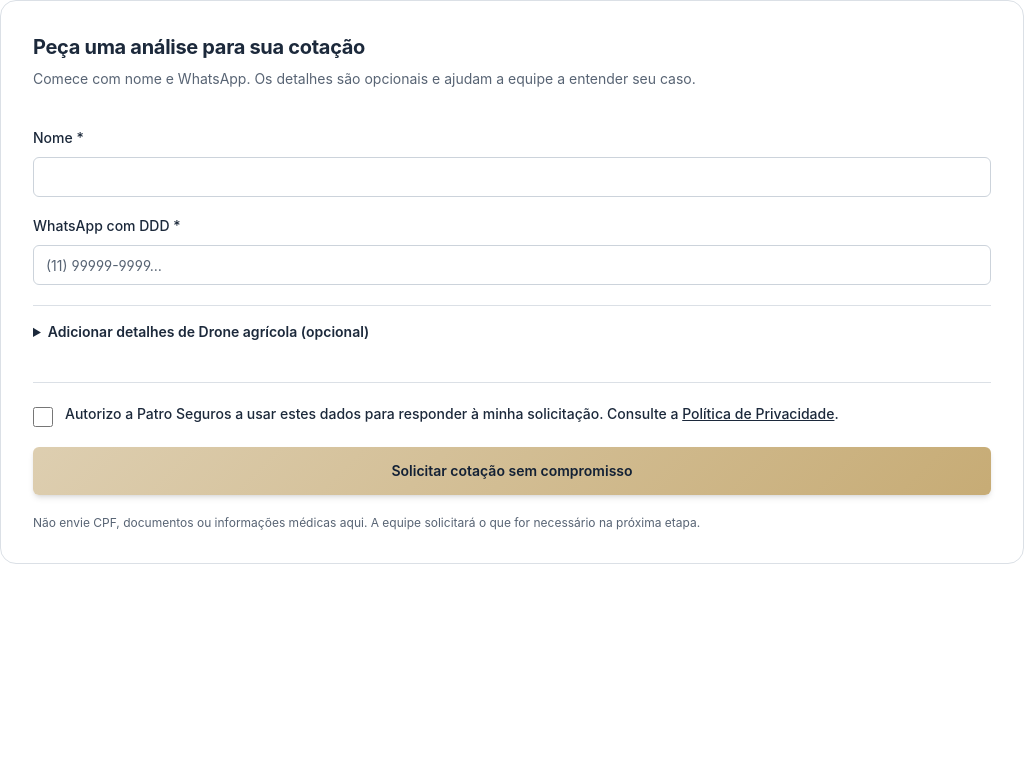
Test: Prévia de drones agrícolas › reduz o contato inicial sem exigir detalhes, documentos ou e-mail
The image size is (1024, 768).
In the field labelled "Nome *": coordinates (512, 177) top-left (33, 157), bottom-right (991, 197), type "Ana Produtora"
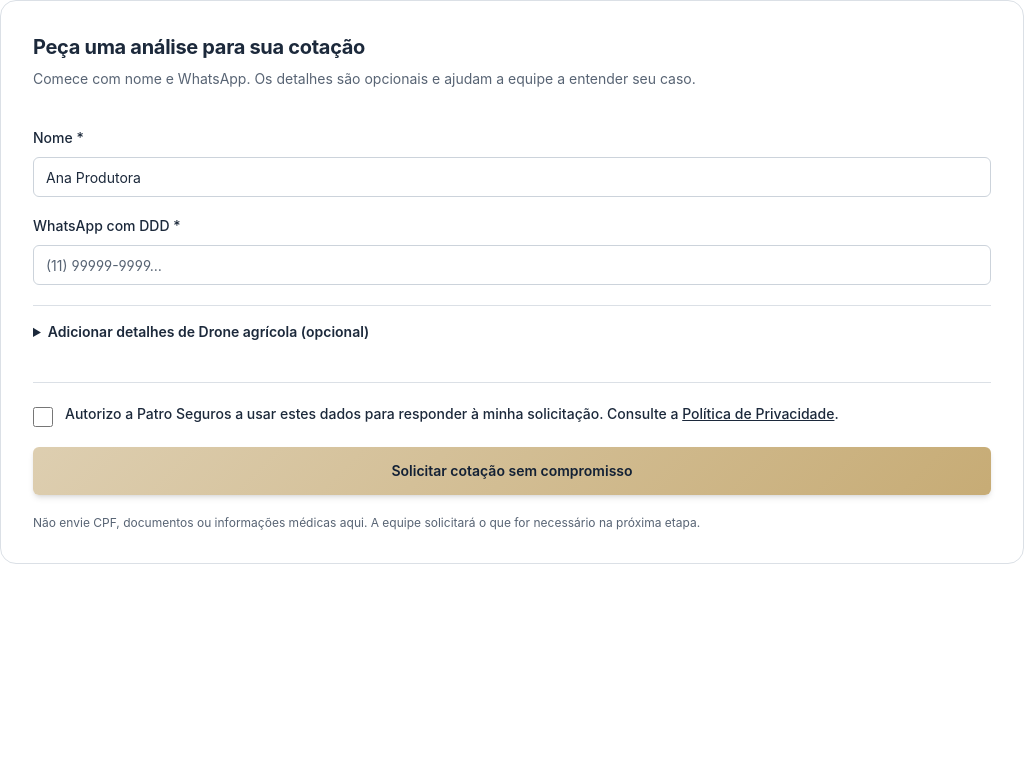
In the field labelled "WhatsApp com DDD *": coordinates (512, 265) top-left (33, 245), bottom-right (991, 285), type "66999999999"
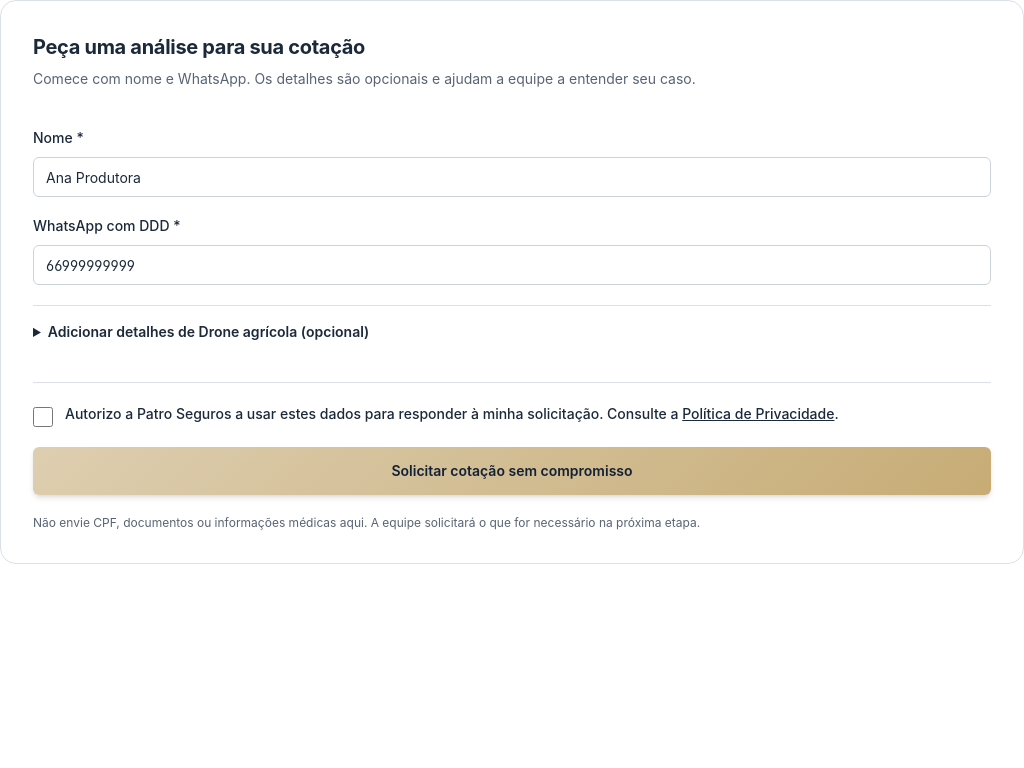
Click the checkbox: coordinates (43, 417) top-left (33, 407), bottom-right (53, 427)
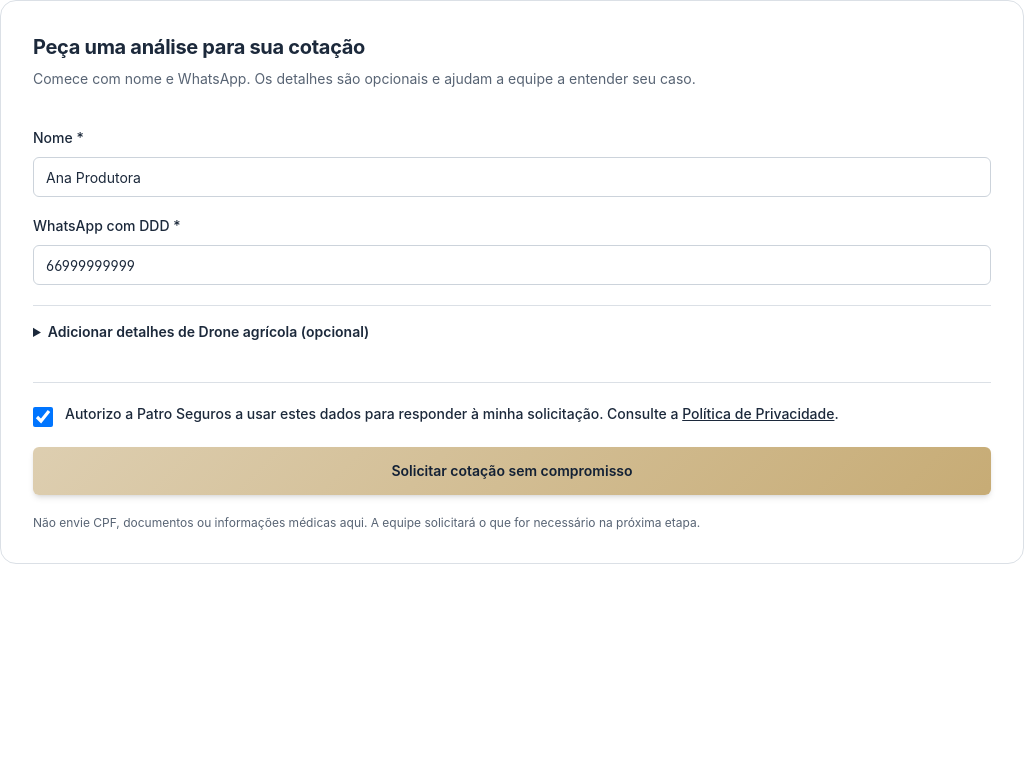
Submit the form
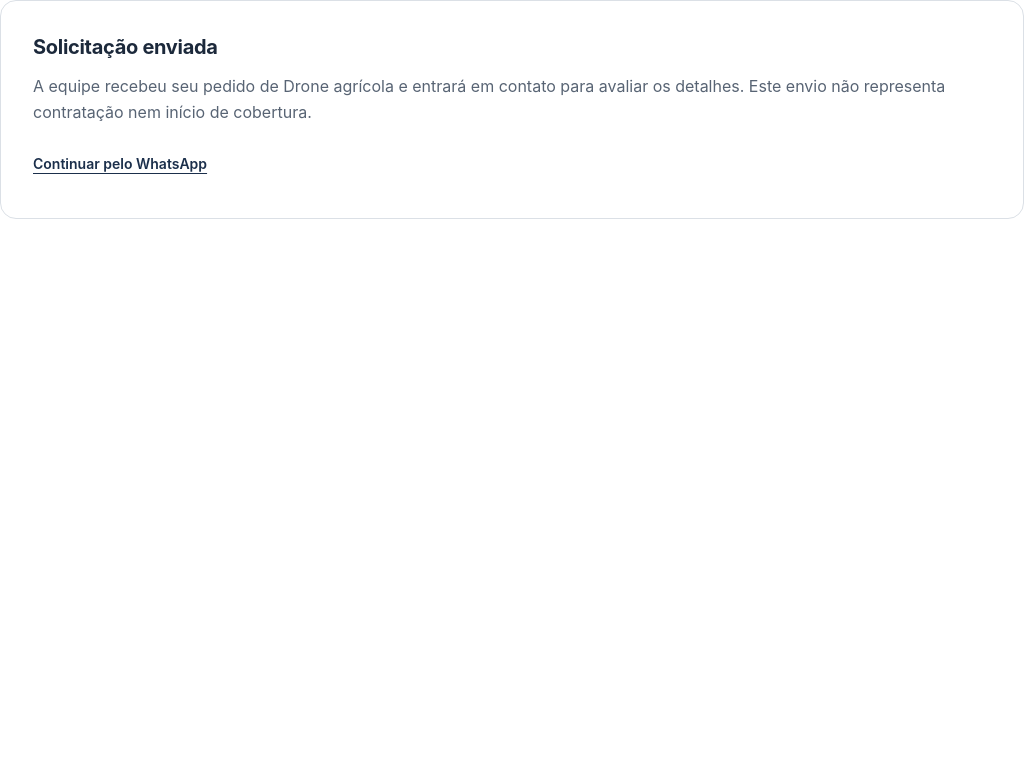
Now the message is shown, box top-left (0, 0), bottom-right (1023, 219)
